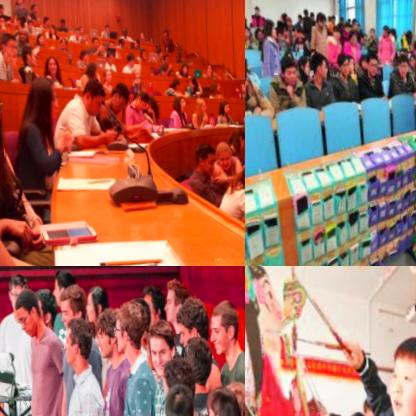head: (383, 324, 416, 416), (208, 292, 243, 354), (160, 346, 197, 399), (175, 290, 210, 346), (147, 314, 181, 371), (162, 375, 203, 416), (62, 313, 93, 366), (111, 293, 141, 347), (14, 282, 44, 335), (25, 73, 59, 119), (183, 327, 212, 377), (163, 272, 192, 321), (202, 375, 236, 416), (93, 305, 119, 355), (59, 279, 87, 325), (139, 274, 162, 326), (82, 280, 108, 322), (224, 368, 245, 416), (81, 76, 105, 115), (49, 266, 74, 303), (7, 269, 28, 313), (35, 284, 55, 321), (278, 48, 297, 83), (215, 131, 235, 164), (108, 80, 128, 113), (2, 28, 20, 62), (196, 137, 214, 169), (310, 48, 328, 76), (21, 39, 38, 65), (45, 51, 61, 73), (365, 48, 379, 73), (232, 121, 245, 147), (263, 15, 278, 37), (336, 47, 349, 72), (134, 87, 148, 108), (85, 55, 99, 74), (396, 51, 408, 73), (173, 90, 187, 108), (141, 89, 152, 108), (12, 11, 24, 28), (314, 7, 325, 25), (195, 92, 207, 108), (345, 50, 355, 69), (17, 24, 28, 41), (126, 46, 136, 64), (210, 73, 222, 88), (358, 47, 368, 65), (133, 67, 143, 84), (330, 19, 340, 36), (78, 43, 89, 58), (171, 70, 181, 86), (220, 94, 230, 109), (36, 28, 46, 43), (188, 71, 198, 86), (347, 27, 357, 42), (0, 25, 6, 49), (250, 0, 261, 13), (293, 21, 303, 35), (379, 17, 388, 31), (104, 64, 112, 79), (108, 33, 116, 48), (26, 14, 34, 28), (49, 18, 57, 32), (106, 46, 114, 60), (91, 31, 99, 45), (181, 55, 189, 69), (139, 42, 148, 54), (387, 21, 396, 33), (42, 11, 50, 24), (253, 25, 262, 36), (351, 12, 358, 26), (60, 34, 68, 46), (408, 47, 415, 60), (73, 23, 80, 35), (163, 48, 170, 60), (367, 21, 374, 33), (402, 22, 409, 34), (28, 0, 37, 9), (59, 14, 67, 24), (102, 18, 110, 28), (328, 7, 335, 18), (285, 11, 291, 23), (78, 20, 85, 30), (240, 74, 245, 88), (134, 33, 141, 43), (245, 22, 250, 36), (343, 17, 349, 28), (361, 26, 367, 37), (295, 8, 301, 19), (301, 3, 307, 14), (155, 36, 162, 45), (0, 12, 4, 27), (207, 59, 213, 69), (119, 32, 125, 42), (122, 22, 129, 30), (175, 47, 181, 56), (163, 24, 169, 33), (139, 27, 145, 36), (398, 43, 404, 52), (157, 42, 162, 52), (0, 0, 4, 11), (309, 6, 313, 16), (413, 23, 416, 35)
